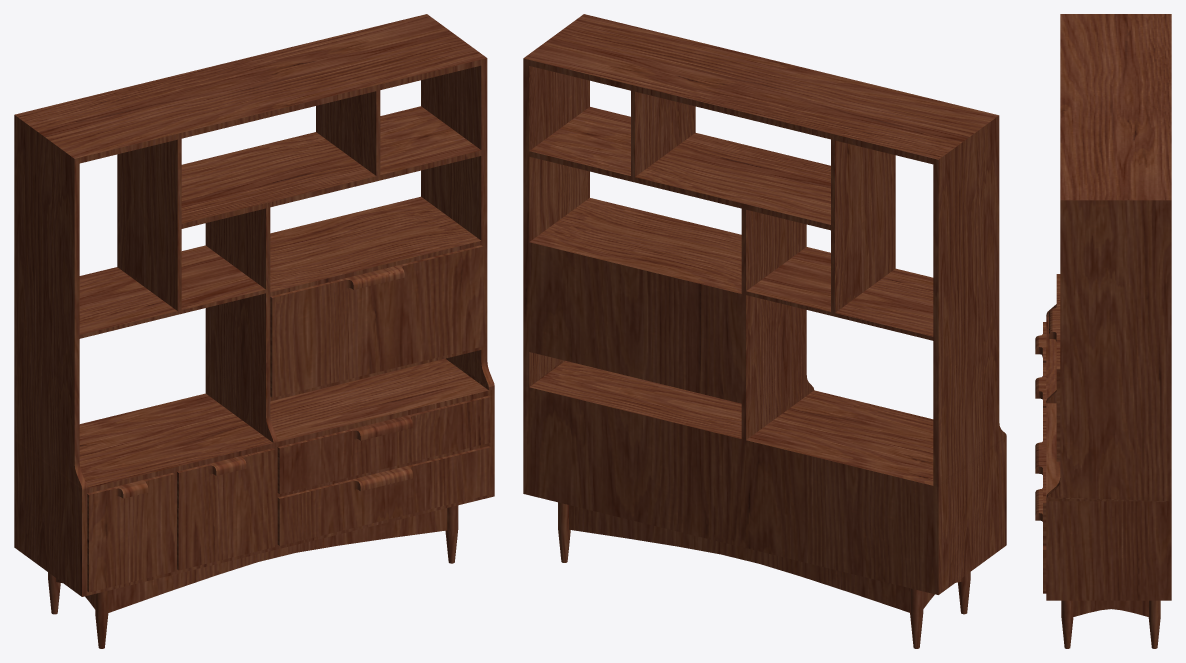
Rendered from bokahilla.glb.
3 renders of one model, left to right at view 1: azimuth 30°, elevation 25°; view 2: azimuth 150°, elevation 25°; view 3: azimuth 270°, elevation 25°, orthographic. The views are drawn at different scales.
Parts seen in each view (by area): view 1: bokahilla_bokahilla1_0; view 2: bokahilla_bokahilla1_0; view 3: bokahilla_bokahilla1_0.
Boxes of the visible parts, x1,y1,x2,y2 form: bokahilla_bokahilla1_0: (14,14,494,648); bokahilla_bokahilla1_0: (523,14,1006,648); bokahilla_bokahilla1_0: (1035,14,1171,648).
Bounding box in the file's own units: 1.71 × 1.97 × 0.5293.
Materials: 1 (1 with a texture image).
